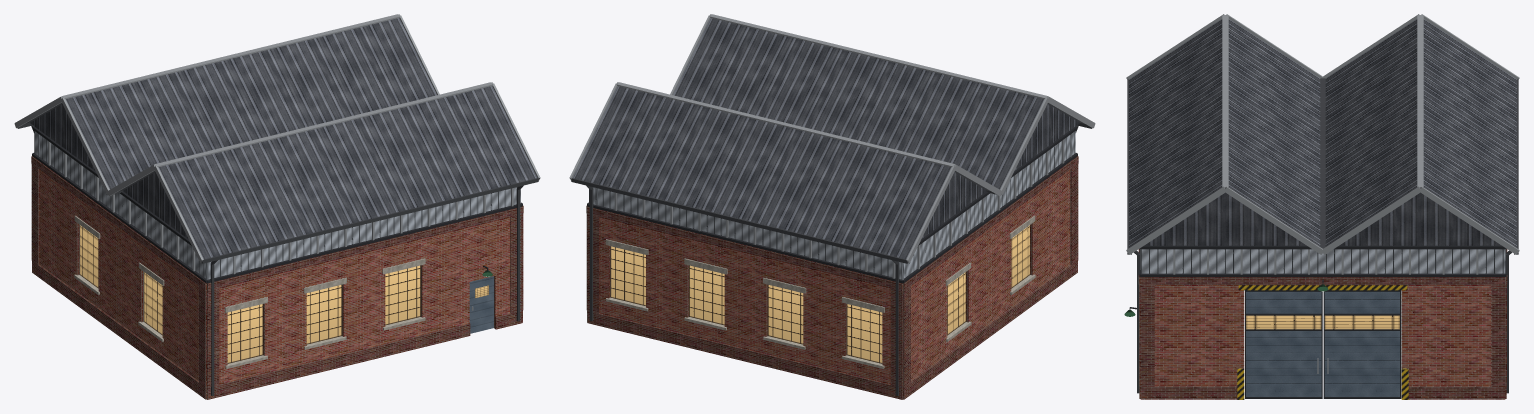
File: depo_auta.glb
3 renders of one model, left to right at view 1: azimuth 30°, elevation 25°; view 2: azimuth 150°, elevation 25°; view 3: azimuth 270°, elevation 25°, orthographic. The views are drawn at different scales.
Visible parts, largest first — view 1: dum, noc, dvere_02; view 2: dum, noc; view 3: dum, dvere_01, dvere_00, noc.
Boxes of the visible parts, x1,y1,x2,y2 form: dum: (14,14,540,399); noc: (79,225,489,363); dvere_02: (469,276,493,333); dum: (569,14,1095,399); noc: (610,225,1030,363); dum: (1124,14,1519,399); dvere_01: (1323,290,1401,398); dvere_00: (1245,290,1322,398); noc: (1128,291,1399,329).
Bounding box in the file's own units: 14.69 × 8.56 × 14.09.
4 materials, 3 textured.
